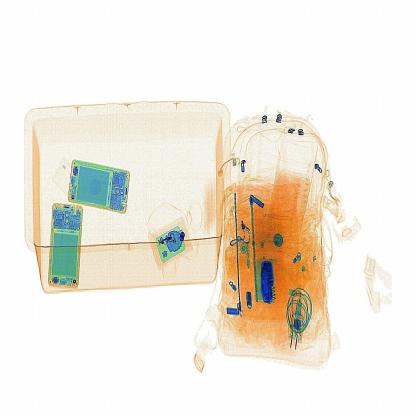scissors: (256, 252, 280, 311)
